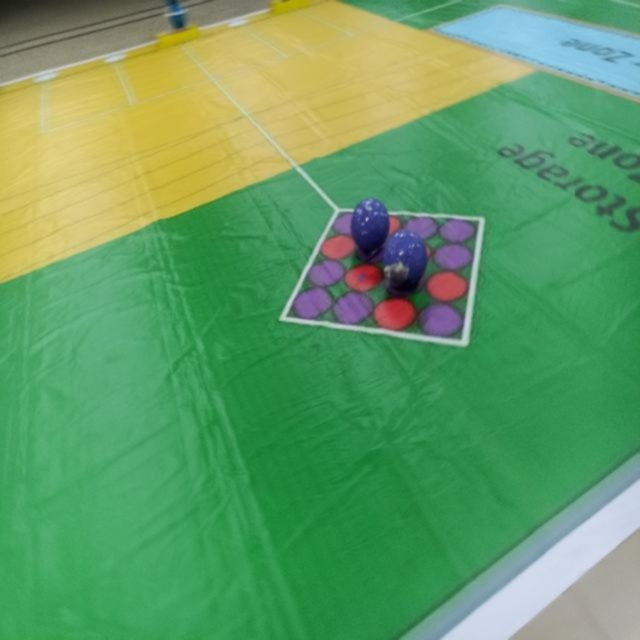purple_ball: (378, 228, 430, 295), (349, 194, 392, 255)
